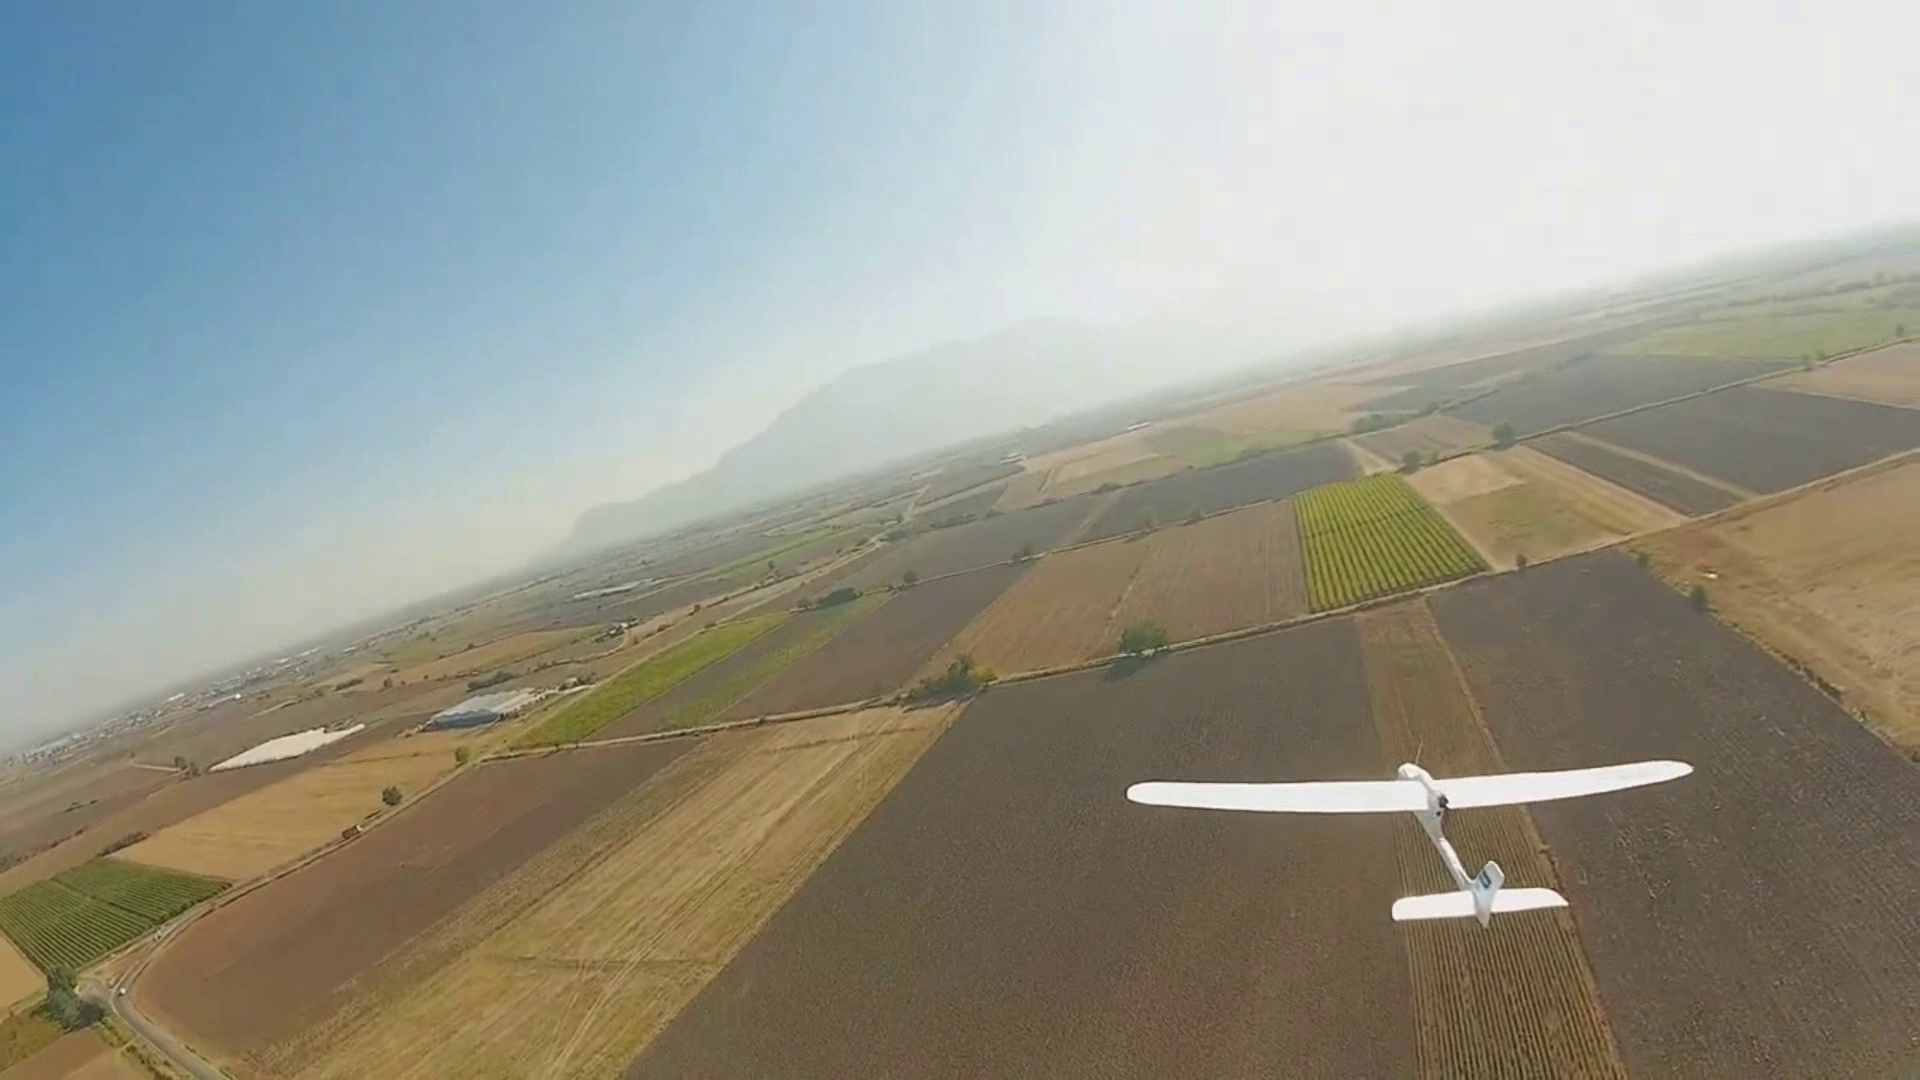airplane: (1126, 764, 1695, 920)
